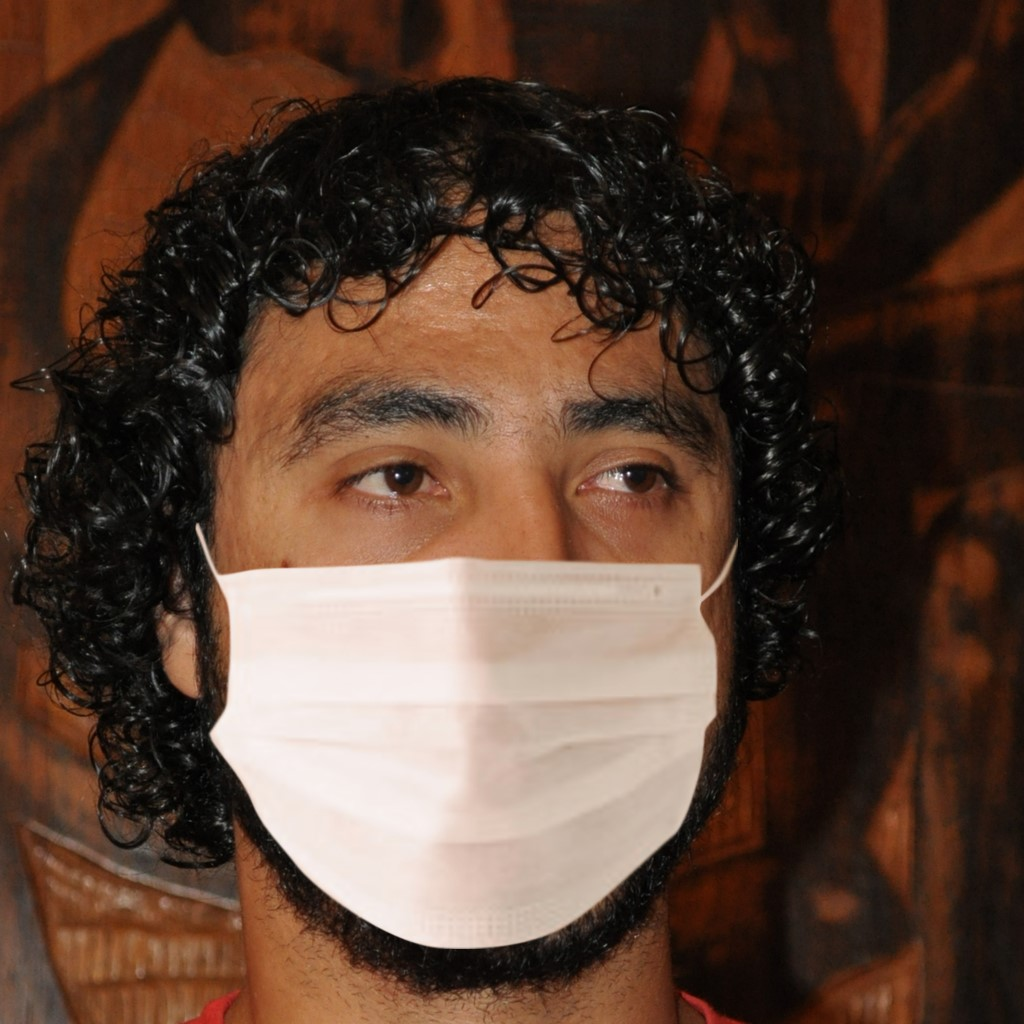con_mascara: (167, 195, 746, 980)
